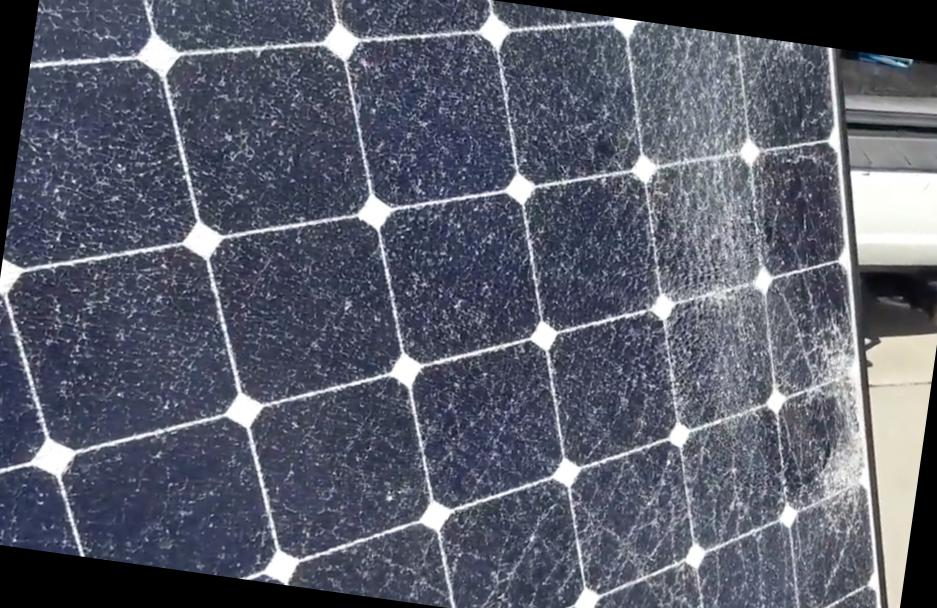Crack: (598, 18, 778, 181), (768, 314, 905, 518), (595, 298, 776, 447), (598, 173, 776, 311)
